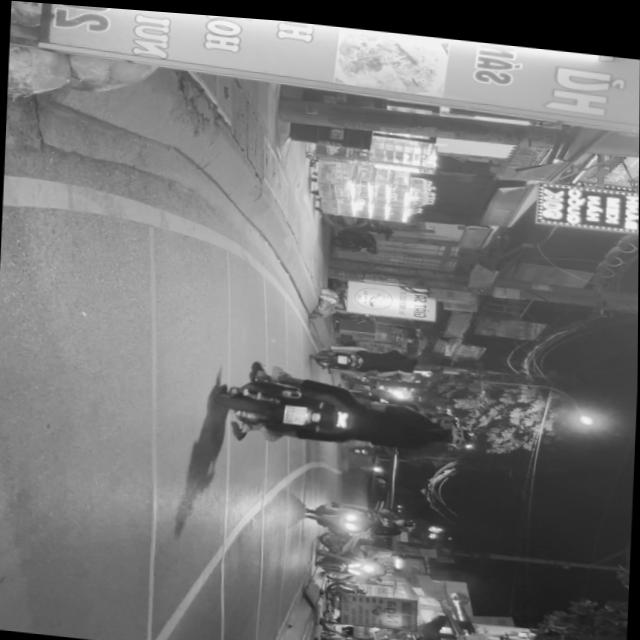helmet: (435, 416, 476, 442)
licenseplate: (213, 356, 479, 460)
nohelmet: (284, 399, 309, 421)
